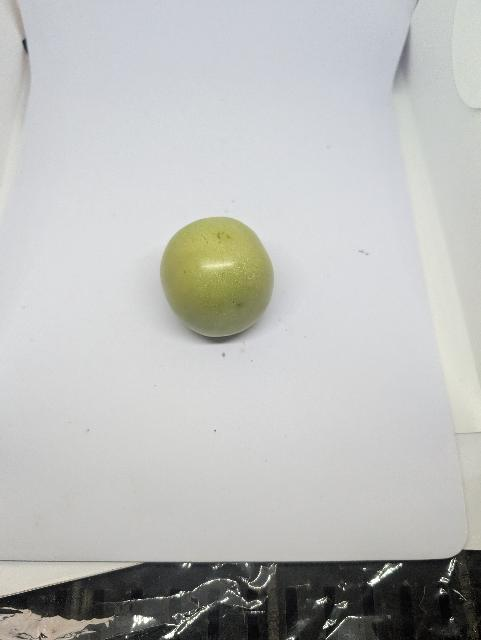green: (158, 213, 277, 340)
